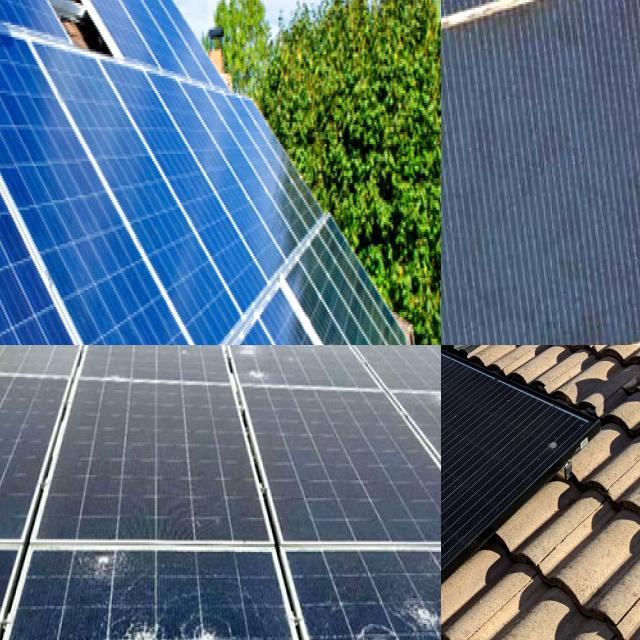crack: (0, 0, 334, 345), (36, 122, 441, 345), (45, 0, 246, 102), (0, 0, 71, 54)
dust: (441, 399, 569, 541)
hotspot: (237, 345, 363, 385), (108, 598, 189, 640), (78, 544, 142, 592), (327, 607, 415, 640), (179, 604, 249, 640), (403, 589, 441, 634)
shadow: (441, 0, 510, 138), (441, 0, 480, 59)
